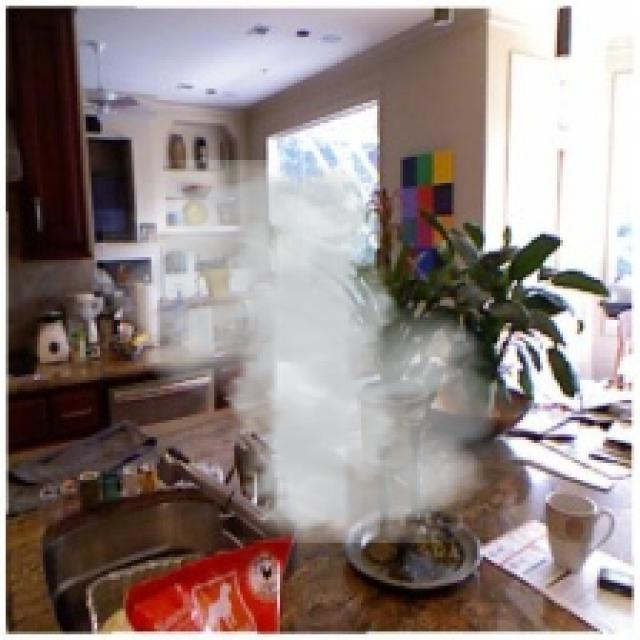smoke: (103, 160, 520, 543)
